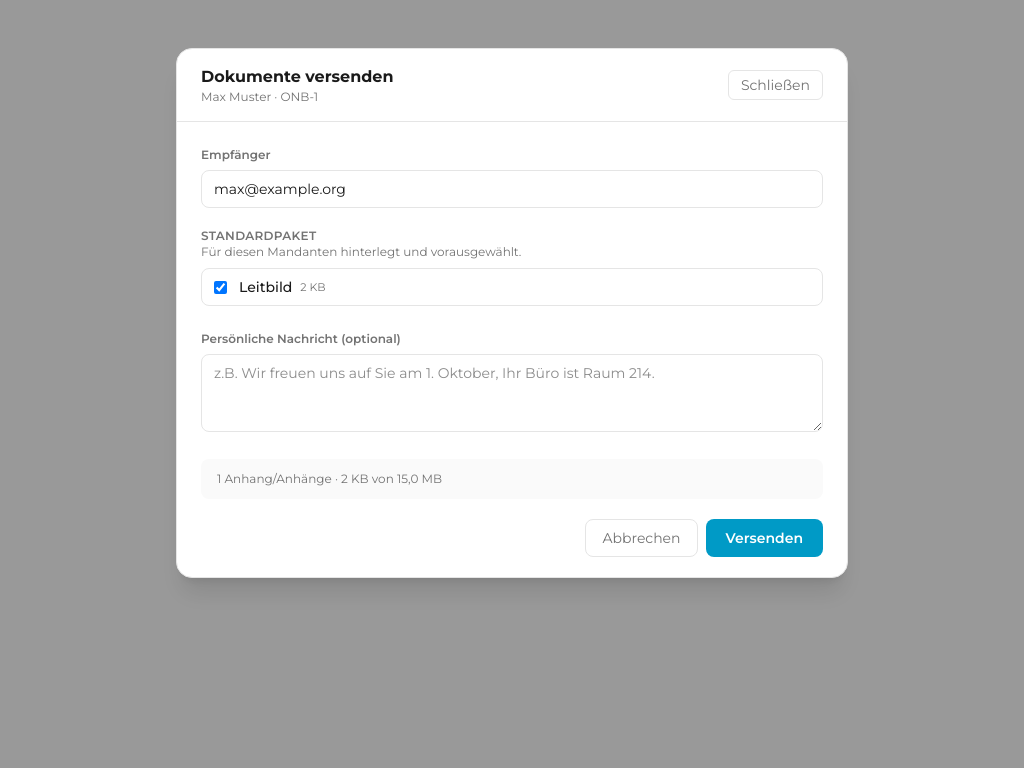
Test: Versand: der Dialog meldet nach oben › meldet NICHT nach oben, wenn der Versand abgelehnt wurde
Click the button "Versenden" at (764, 538), box [706, 519, 823, 557]
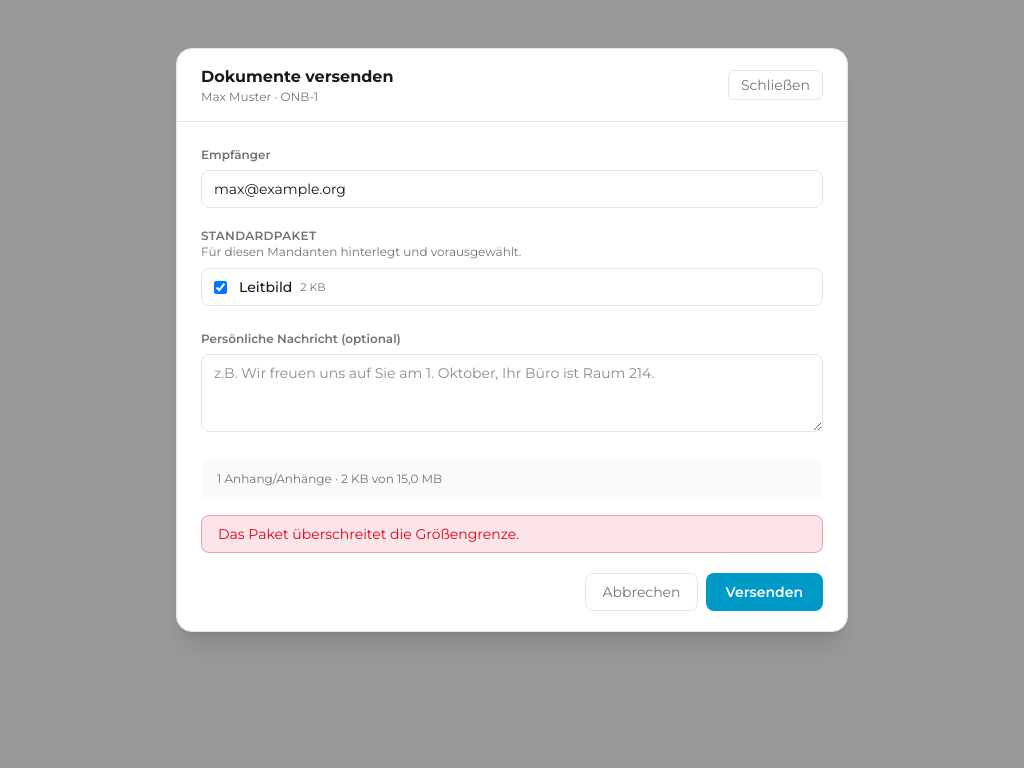
Check: the button "Versenden" is enabled, box [706, 573, 823, 611]
Check: the text "Das Paket überschreitet die Größengrenze." is shown, box [201, 515, 823, 553]
